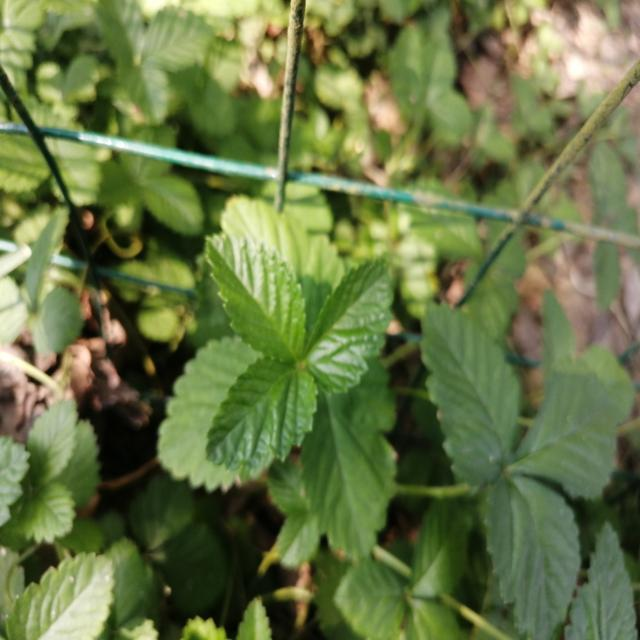Mock_strawberry: (203, 229, 396, 461)
